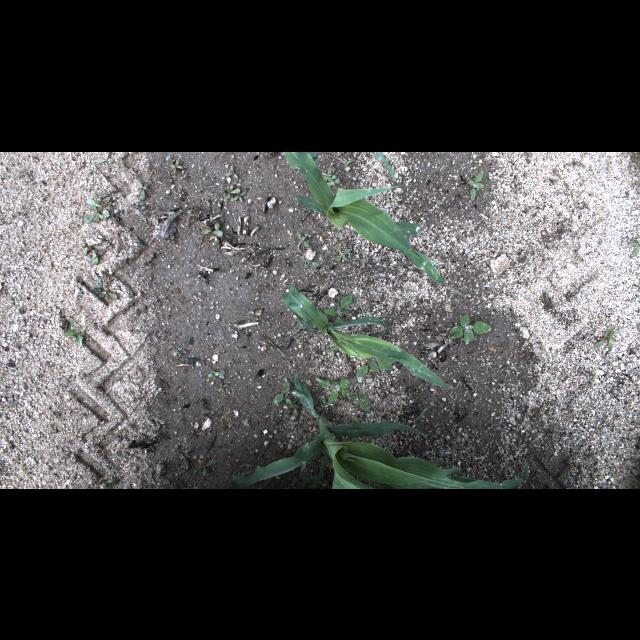crop: (225, 372, 529, 488), (284, 152, 461, 292), (278, 282, 456, 390), (372, 152, 398, 180)
weed: (448, 314, 488, 346), (314, 378, 354, 402), (83, 196, 113, 224), (325, 292, 353, 322), (61, 317, 89, 345), (357, 360, 395, 378), (199, 222, 225, 248), (95, 278, 119, 302), (592, 326, 616, 350), (468, 170, 487, 198), (270, 381, 290, 405), (194, 459, 220, 476), (82, 242, 102, 264), (132, 176, 150, 198), (353, 391, 372, 411), (283, 397, 301, 418), (98, 152, 114, 170), (222, 185, 240, 201), (293, 230, 309, 247), (332, 247, 348, 263), (231, 188, 247, 202), (225, 166, 241, 180), (170, 158, 184, 172), (98, 478, 116, 488), (208, 368, 220, 382), (324, 344, 338, 356), (304, 259, 320, 269), (323, 166, 333, 182), (567, 158, 581, 168), (630, 240, 638, 256), (219, 382, 231, 392), (343, 158, 353, 168), (332, 173, 341, 184), (320, 394, 328, 404), (350, 416, 358, 422), (305, 232, 311, 238)
